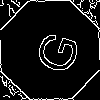G: (25, 25, 82, 78)
